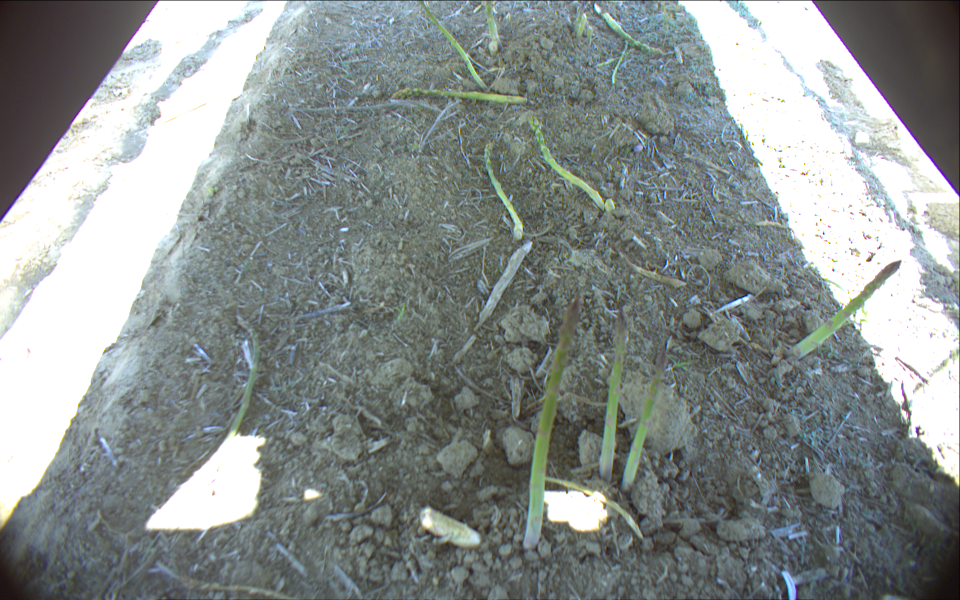aspa: (523, 291, 581, 548), (786, 260, 902, 361), (202, 314, 262, 490), (528, 116, 606, 210), (620, 347, 668, 490), (417, 1, 490, 93), (540, 476, 643, 538), (154, 558, 303, 600), (596, 305, 626, 484), (482, 142, 523, 240), (595, 6, 669, 55), (417, 506, 479, 548), (388, 87, 529, 105), (484, 1, 499, 53), (611, 39, 627, 84), (577, 13, 587, 40), (587, 27, 592, 43)
